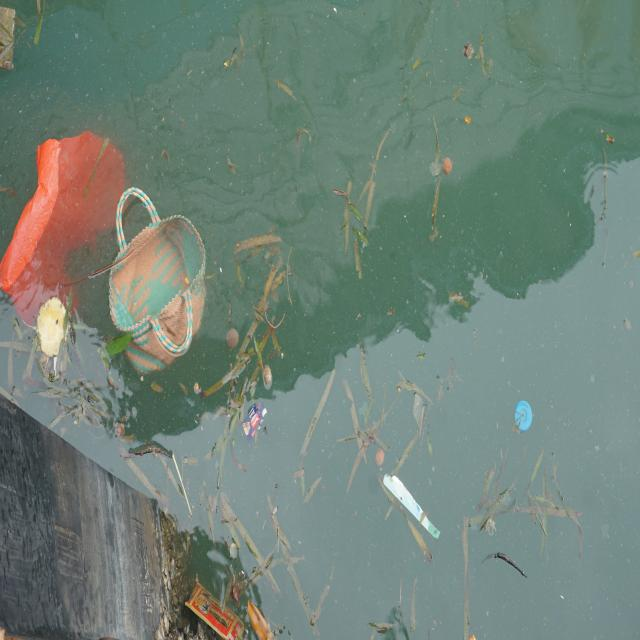Bungkus Makanan: (186, 570, 247, 640), (242, 401, 269, 443)
Kantong Plastik: (1, 130, 129, 341)
